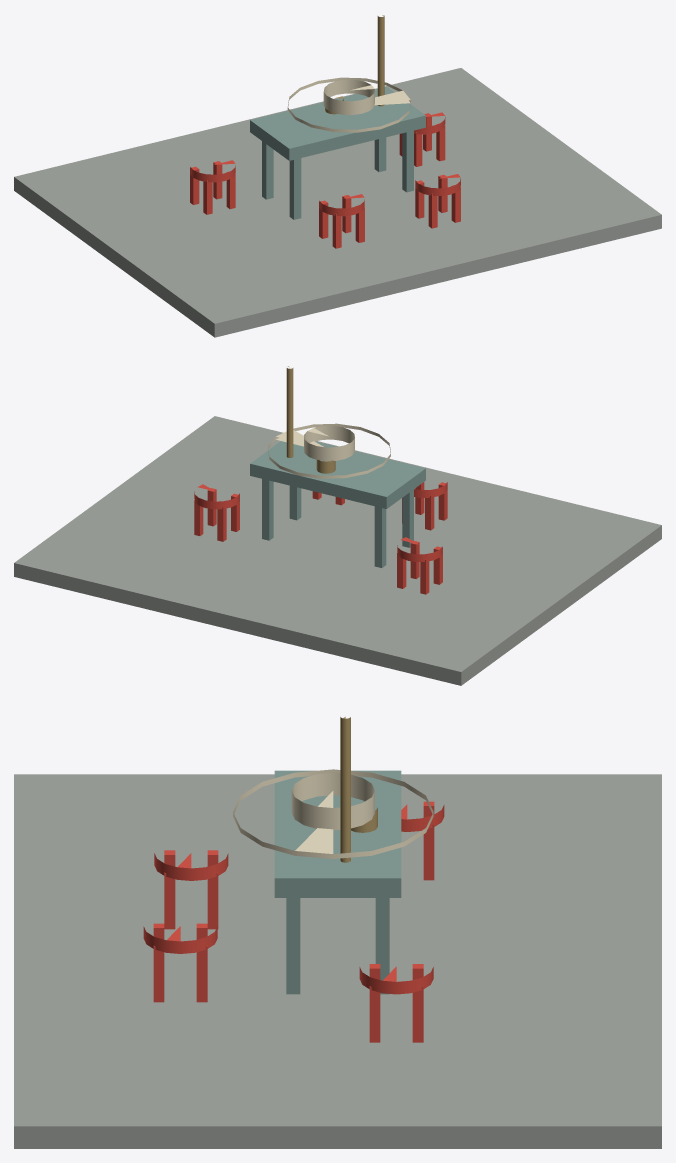
The model's file is mock-tea-stall.glb.
3 renders of one model, top to bottom at view 1: azimuth 30°, elevation 25°; view 2: azimuth 150°, elevation 25°; view 3: azimuth 270°, elevation 25°, orthographic. The views are drawn at different scales.
Visible parts, largest first — view 1: Pavement, Tea table top, Table leg (×3), Conical-hat mock crown, Conical-hat mock brim, Bamboo pipe; view 2: Pavement, Tea table top, Table leg (×3), Conical-hat mock crown, Conical-hat mock brim, Bamboo pipe; view 3: Pavement, Tea table top, Backless red stool seat (×4), Stool leg (×6), Conical-hat mock crown, Conical-hat mock brim, Table leg (×2), Bamboo pipe.
Part boxes in pixels (x1,y1,x2,y2): Pavement: (14,68,661,337); Tea table top: (250,87,425,160); Table leg (×3): (262,130,413,219); Conical-hat mock crown: (323,79,374,114); Conical-hat mock brim: (287,77,410,132); Bamboo pipe: (377,15,384,106); Pavement: (14,416,661,685); Tea table top: (250,441,425,508); Table leg (×3): (262,479,413,567); Conical-hat mock crown: (304,425,354,461); Conical-hat mock brim: (268,423,390,478); Bamboo pipe: (286,366,293,457); Pavement: (14,774,661,1148); Tea table top: (274,770,401,897); Backless red stool seat (×4): (143,804,444,994); Stool leg (×6): (153,872,423,1042); Conical-hat mock crown: (291,773,374,830); Conical-hat mock brim: (233,769,433,858); Table leg (×2): (286,898,389,994); Bamboo pipe: (340,716,350,862).
Size of the model in its own units: 5.4 by 2.09 by 4.2.
